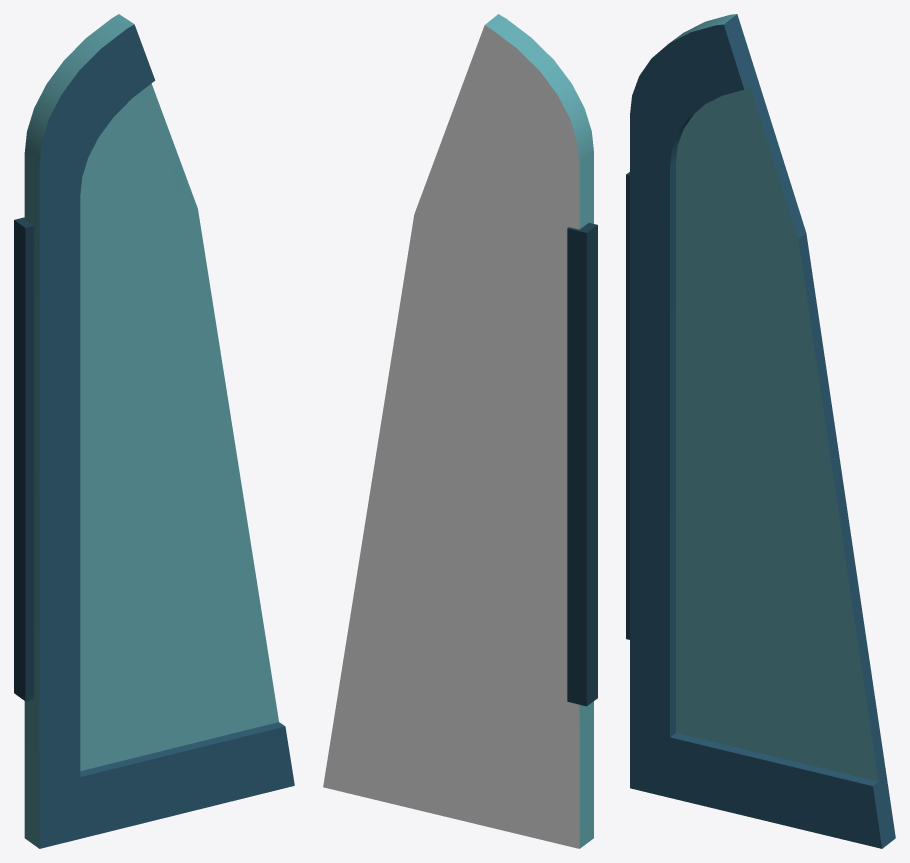
The model's file is door2.fbx.
The picture shows the model from 3 angles, left to right: view 1: azimuth 30°, elevation 25°; view 2: azimuth 150°, elevation 25°; view 3: azimuth 330°, elevation 25°; orthographic projection.
Parts seen in each view (by area): view 1: 破碎（Voronoi）_fracturepart_1; view 2: 破碎（Voronoi）_fracturepart_1; view 3: 破碎（Voronoi）_fracturepart_1.
Part boxes in pixels (x1,y1,x2,y2): 破碎（Voronoi）_fracturepart_1: (14, 14, 294, 848); 破碎（Voronoi）_fracturepart_1: (323, 14, 597, 848); 破碎（Voronoi）_fracturepart_1: (626, 14, 895, 848).
Size of the model in its own units: 85.48 by 247 by 9.16.
